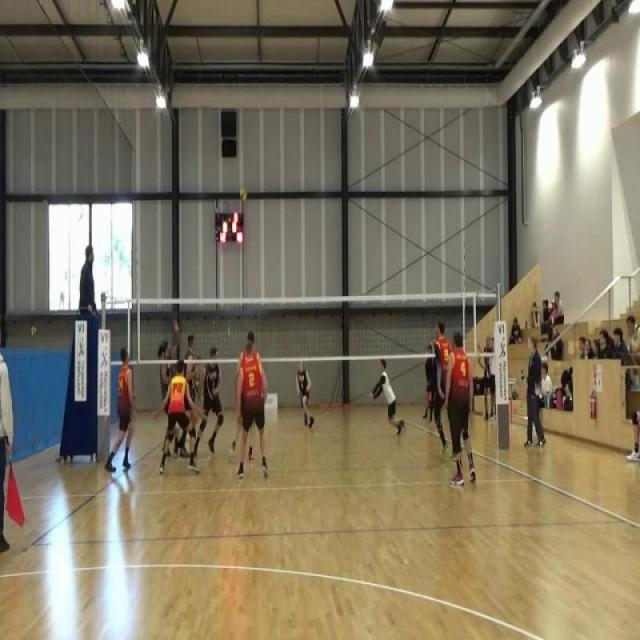volleyball: (238, 185, 249, 202), (30, 326, 37, 338)
